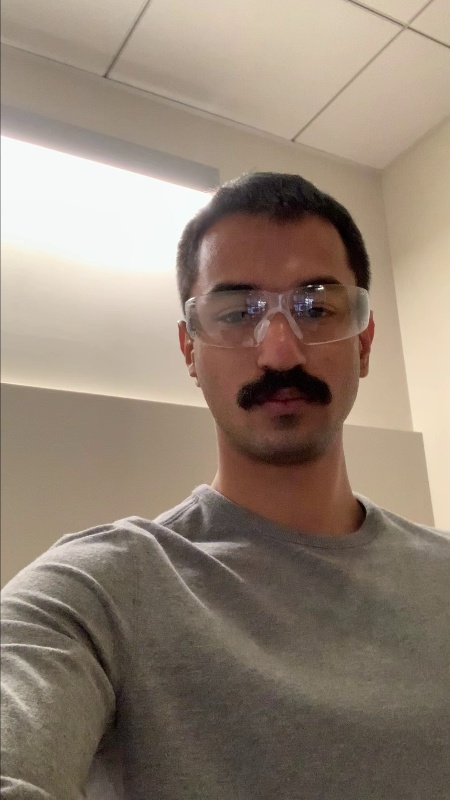glasses: (184, 276, 378, 357)
